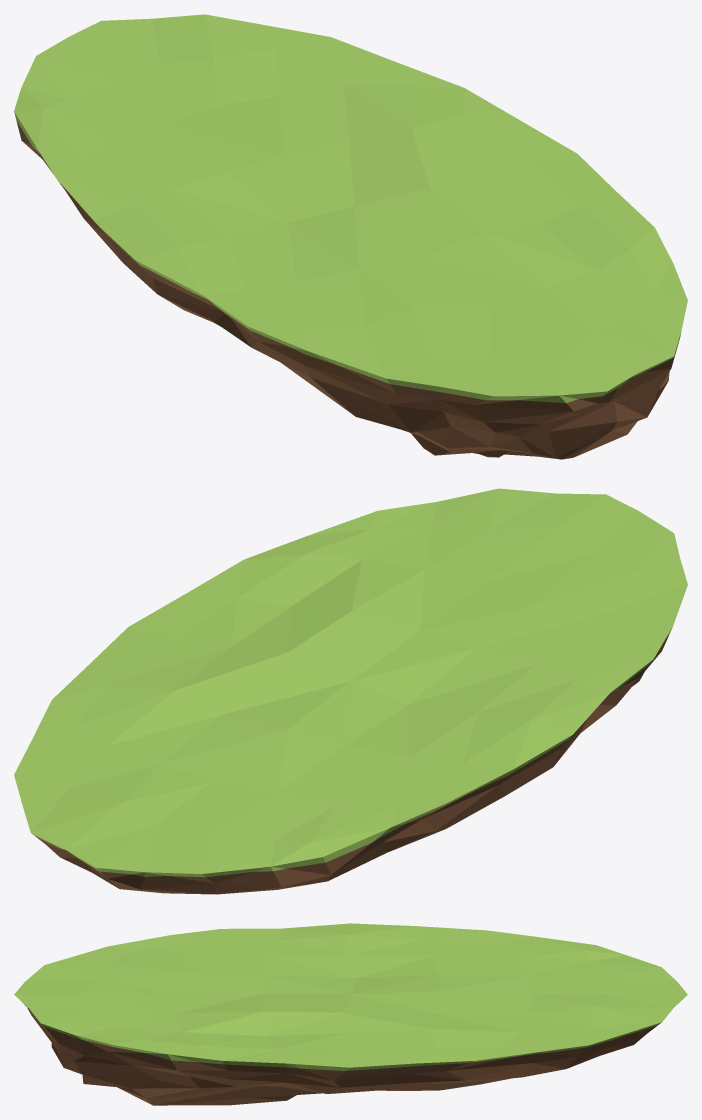
Rendered from super base.fbx.
3 views of the same model, one above another, from view 1: azimuth 30°, elevation 25°; view 2: azimuth 150°, elevation 25°; view 3: azimuth 270°, elevation 25° (orthographic). The views are drawn at different scales.
Parts seen in each view (by area): view 1: Circle; view 2: Circle; view 3: Circle.
Part boxes in pixels (x1,y1,x2,y2): Circle: (14,14,687,459); Circle: (14,488,687,894); Circle: (14,923,687,1105).
Size of the model in its own units: 184 by 58.27 by 364.
